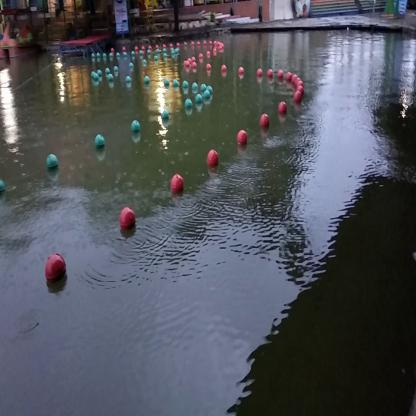green_buoy: (46, 156, 58, 174), (95, 135, 105, 151), (132, 120, 140, 133), (163, 110, 168, 122), (186, 98, 191, 107)
red_buoy: (46, 254, 68, 286), (120, 208, 136, 232), (170, 175, 184, 196), (207, 150, 217, 171), (292, 88, 302, 103), (279, 99, 288, 115), (239, 131, 247, 146), (261, 114, 269, 126)
